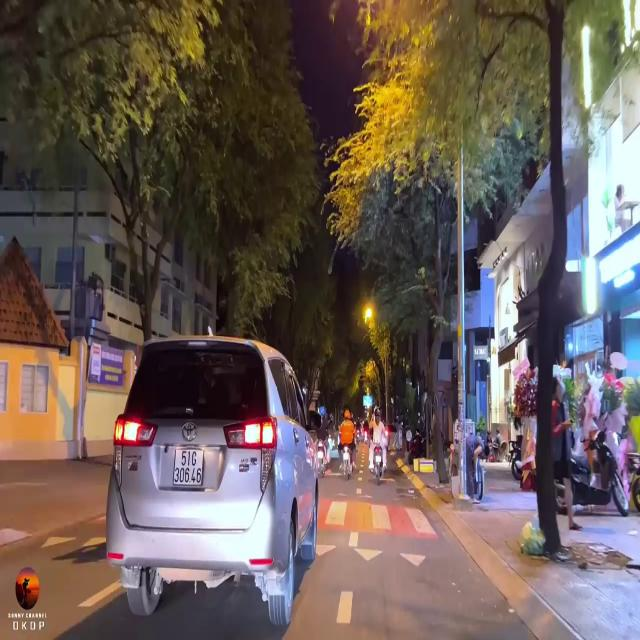bien_trang: (172, 446, 204, 491)
